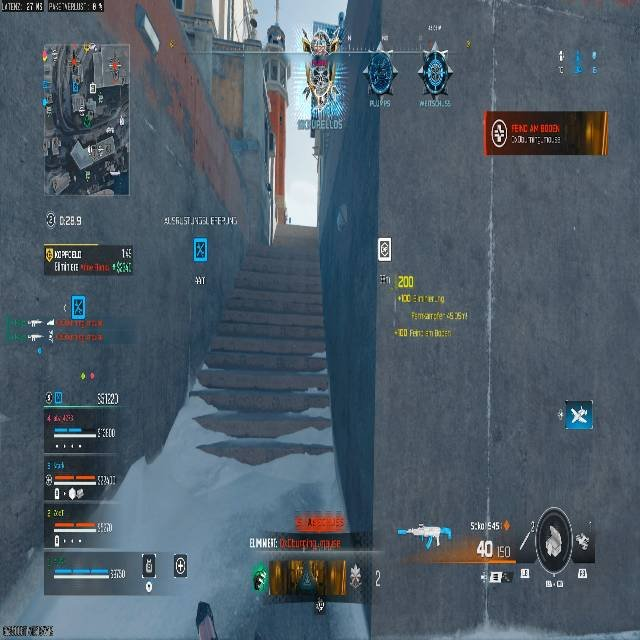player: (418, 46, 453, 101)
